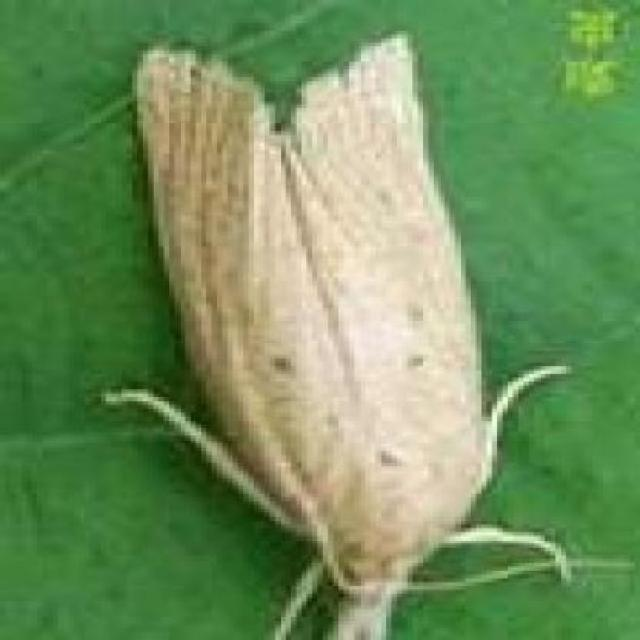stem-borer: (90, 34, 556, 640)
